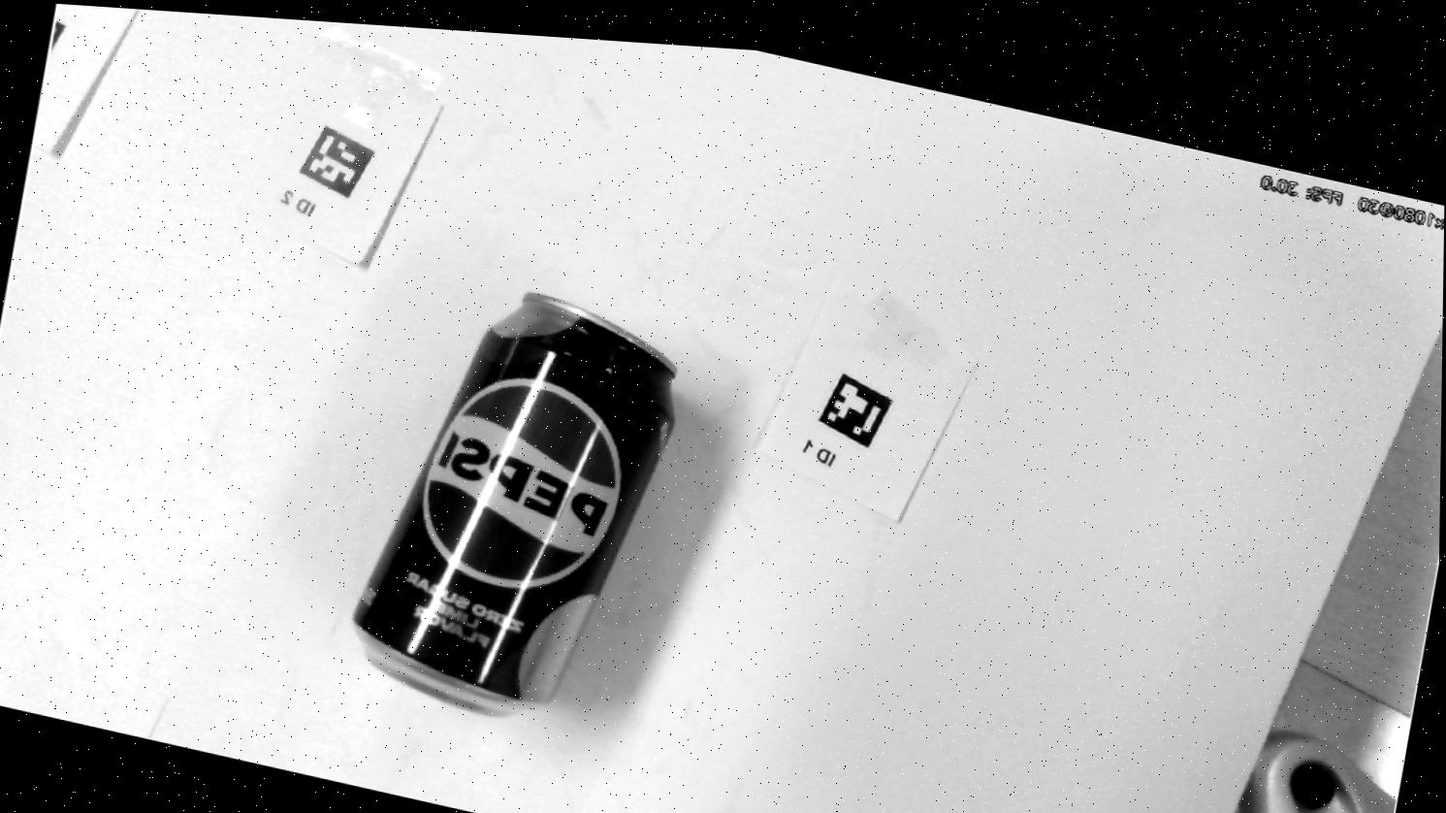can_pepsi_zero: (353, 294, 675, 712)
